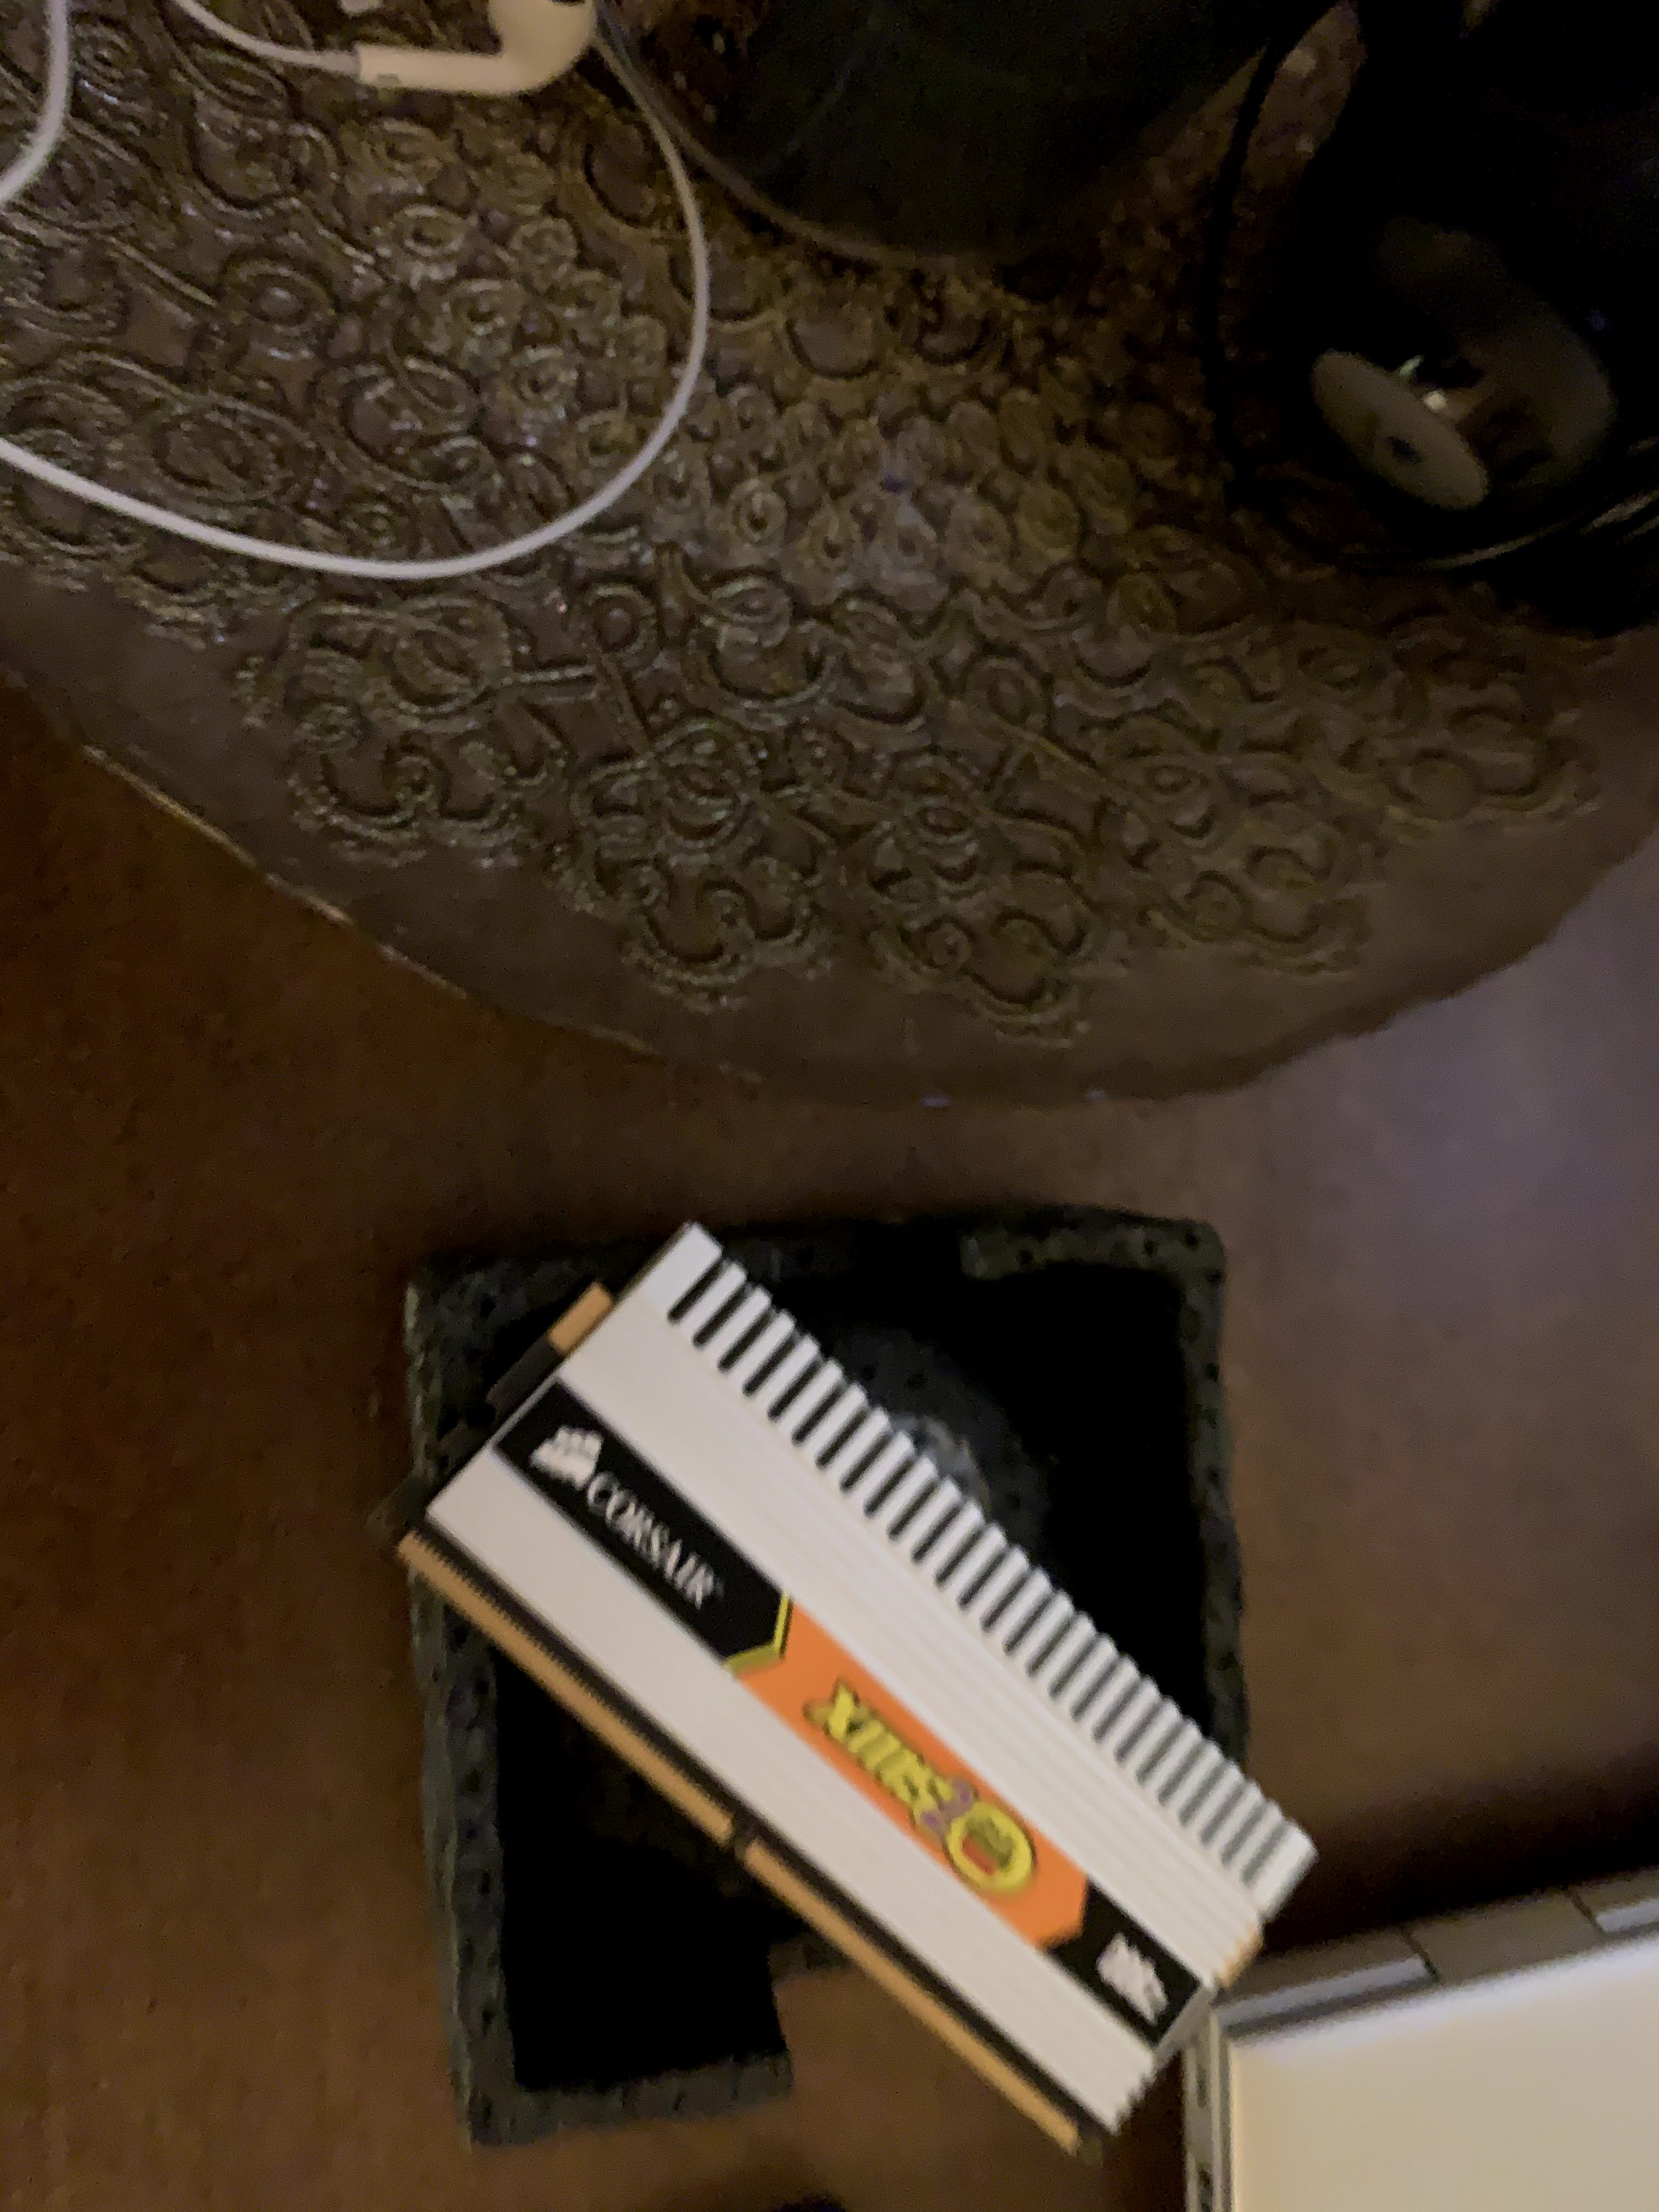Space-debris-medium: (349, 1195, 1324, 2139)
